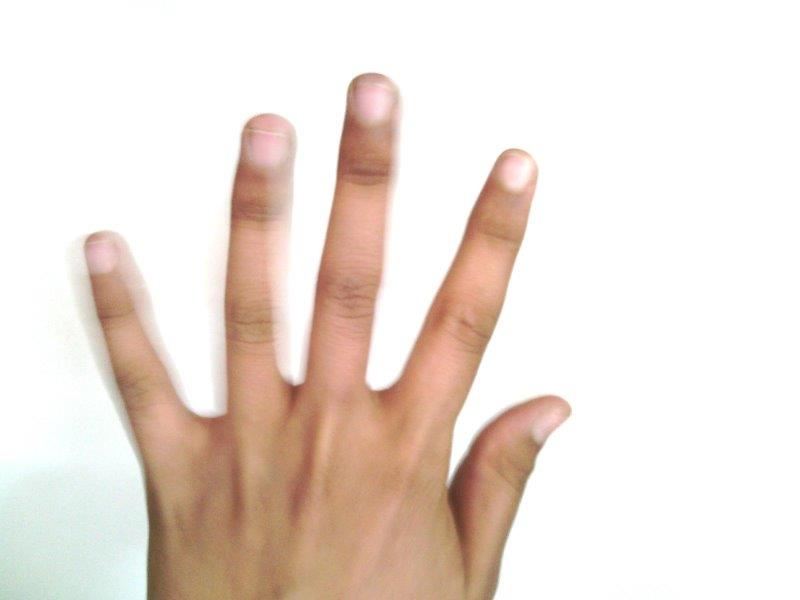hand: (79, 72, 572, 600)
